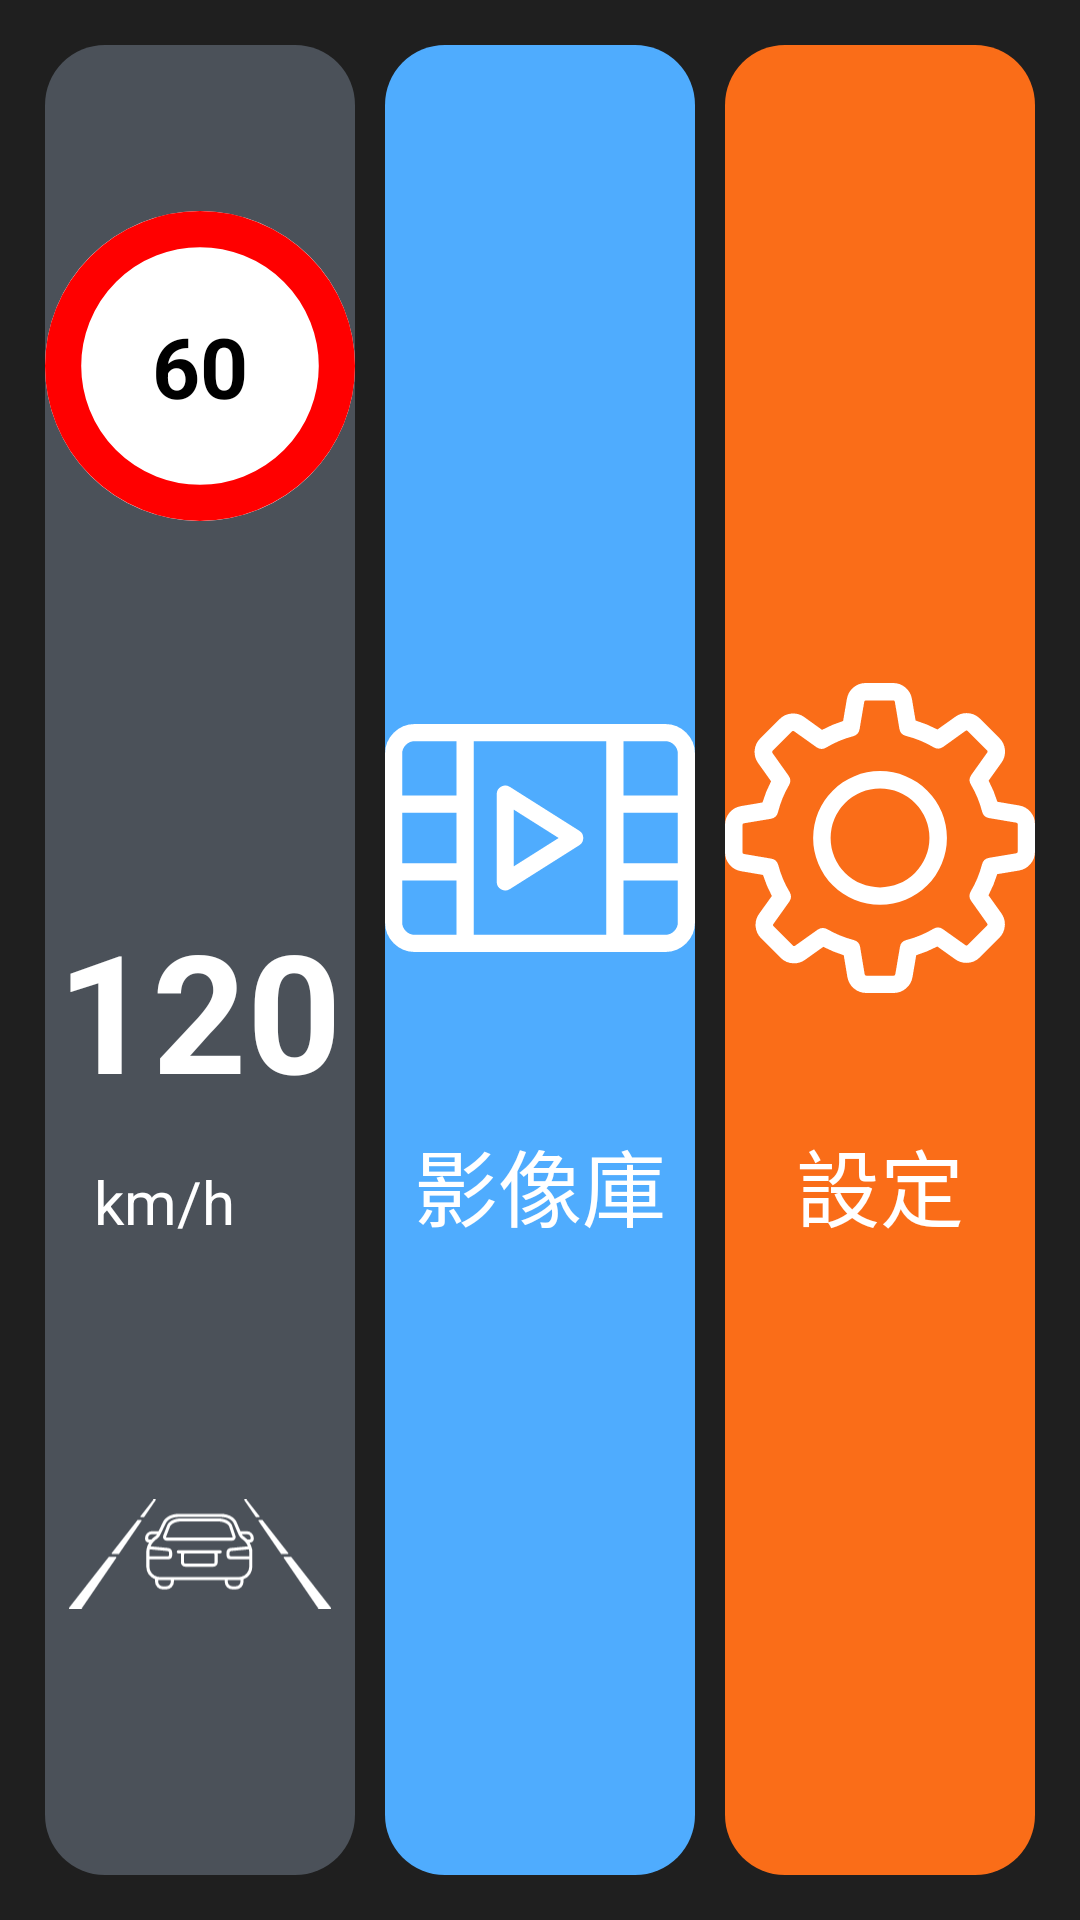

Icons on this 1080 x 1920 Android screen, each with the point to tap as (x,y):
home adas kd: (200,1554)
home setting kd: (880,838)
home video kd: (540,838)
